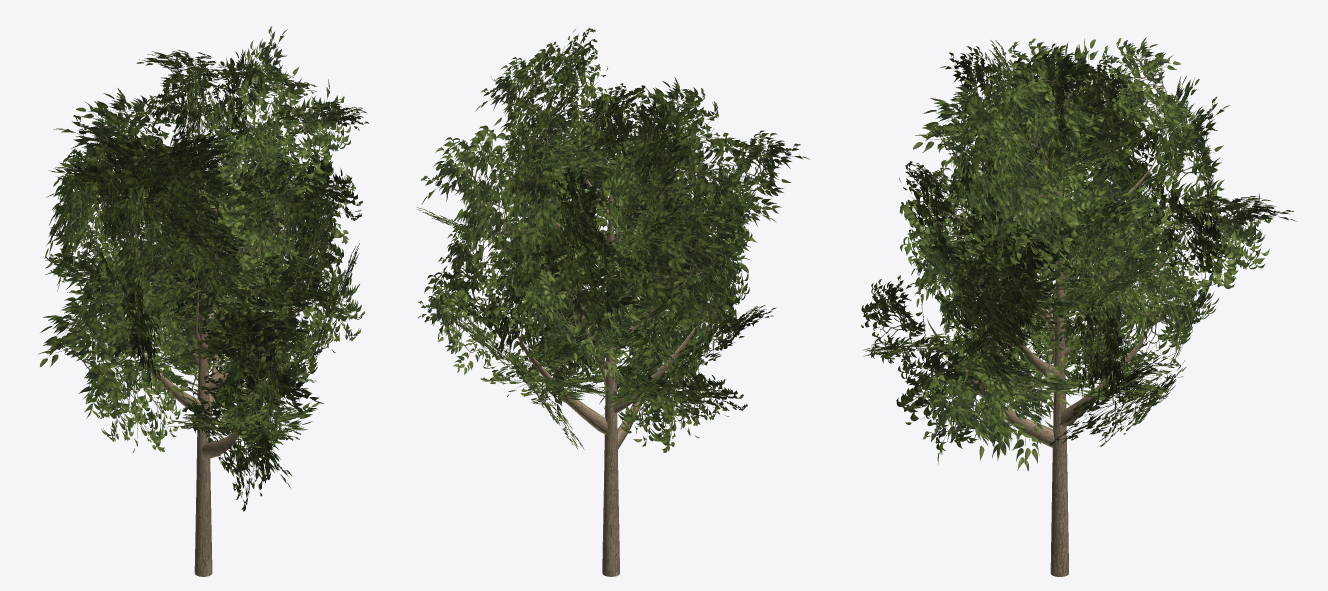
File: Ficus_Model_0.obj
The picture shows the model from 3 angles, left to right: view 1: azimuth 30°, elevation 25°; view 2: azimuth 150°, elevation 25°; view 3: azimuth 270°, elevation 25°; orthographic projection. The views are drawn at different scales.
Visible parts, largest first — view 1: Foliage__leafcard, Bark; view 2: Foliage__leafcard, Bark; view 3: Foliage__leafcard, Bark.
Part boxes in pixels (x1,y1,x2,y2): Foliage__leafcard: [38, 26, 369, 511]; Bark: [105, 110, 305, 576]; Foliage__leafcard: [417, 28, 809, 452]; Bark: [486, 98, 708, 576]; Foliage__leafcard: [861, 37, 1297, 471]; Bark: [927, 134, 1201, 576].
Size of the model in its own units: 2.23 by 3 by 2.26.
Materials: 2 (2 with a texture image).
